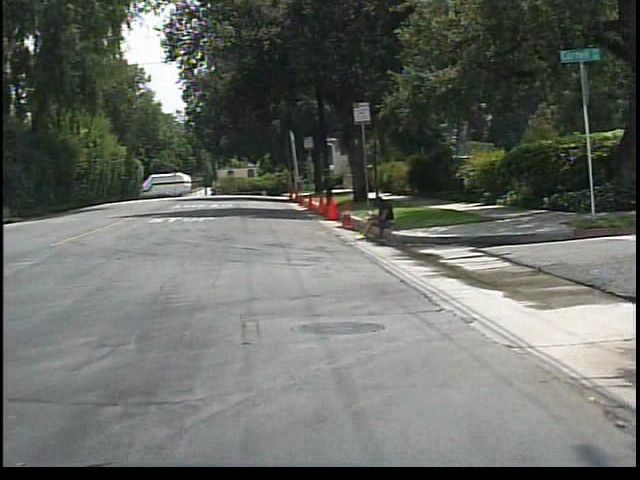person: (353, 192, 406, 244)
